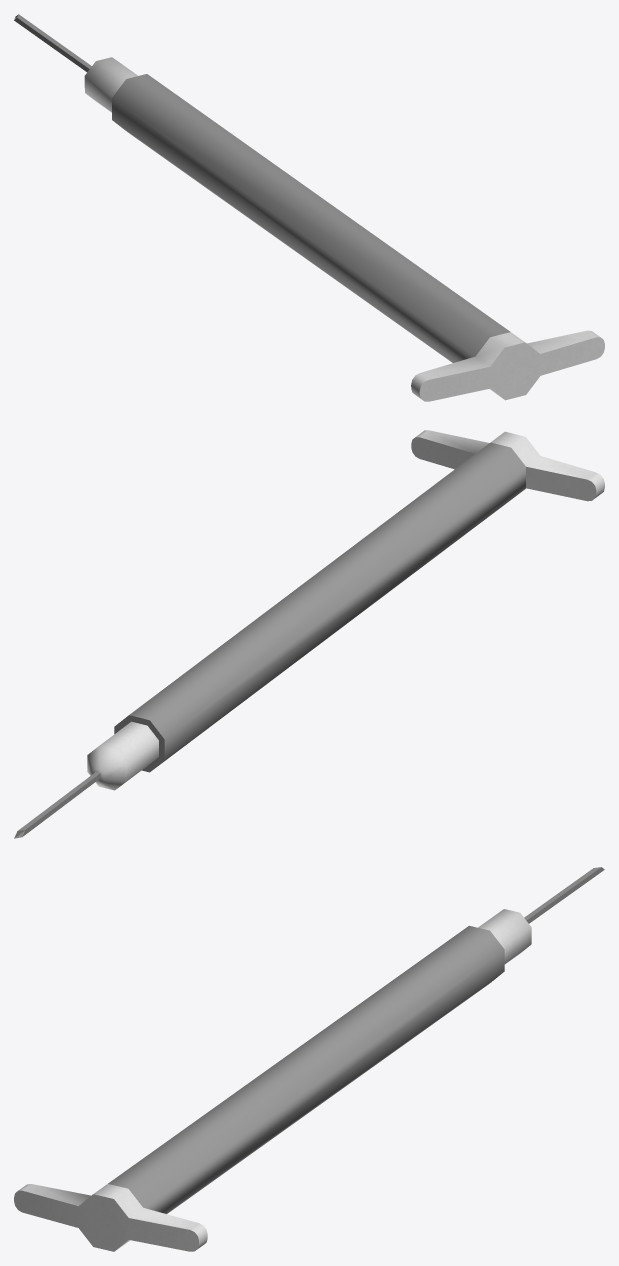
The picture shows the model from 3 angles, top to bottom: view 1: azimuth 30°, elevation 25°; view 2: azimuth 150°, elevation 25°; view 3: azimuth 330°, elevation 25°; orthographic projection.
Visible parts, largest first — view 1: SM_针筒001; view 2: SM_针筒001; view 3: SM_针筒001.
Boxes of the visible parts, x1,y1,x2,y2 form: SM_针筒001: (14,14,604,401); SM_针筒001: (14,430,604,838); SM_针筒001: (14,867,604,1251).
Bounding box in the file's own units: 0.0336 × 0.0104 × 0.1572.
